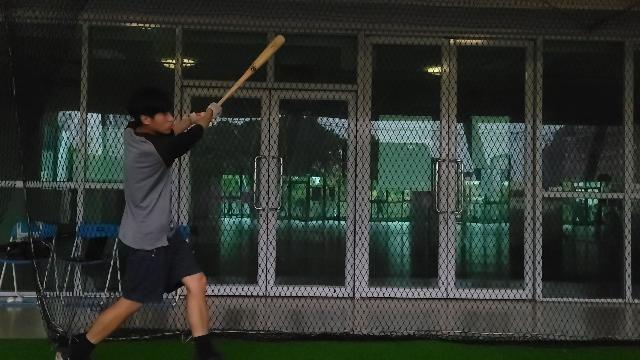baseball bat: (216, 30, 288, 106)
